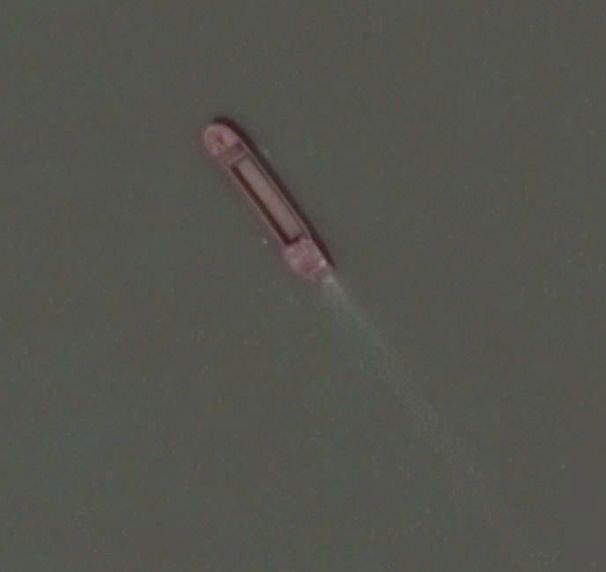boat: (200, 119, 330, 289)
